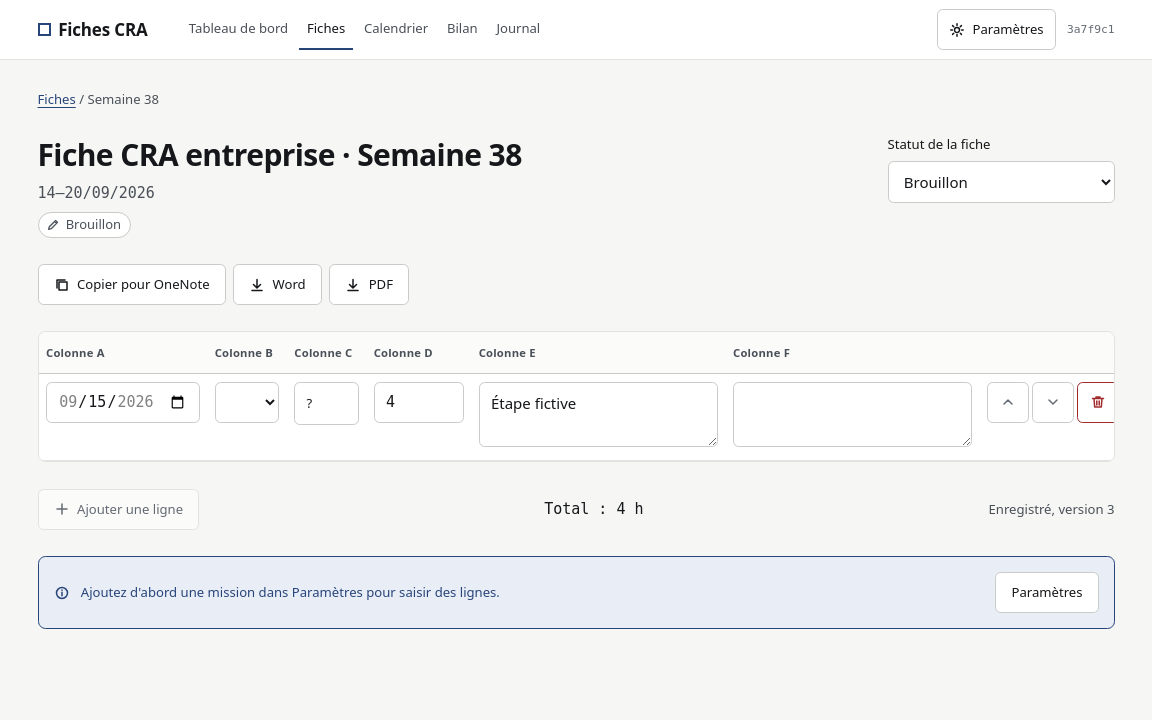
Test: Éditeur de fiche › la saisie déclenche un seul PUT après le délai d'inactivité
Replace the text in the text box named "Étapes de la ligne 1" with "Étape fictive modifiée" at (598, 415), box left=479, top=382, right=718, bottom=448
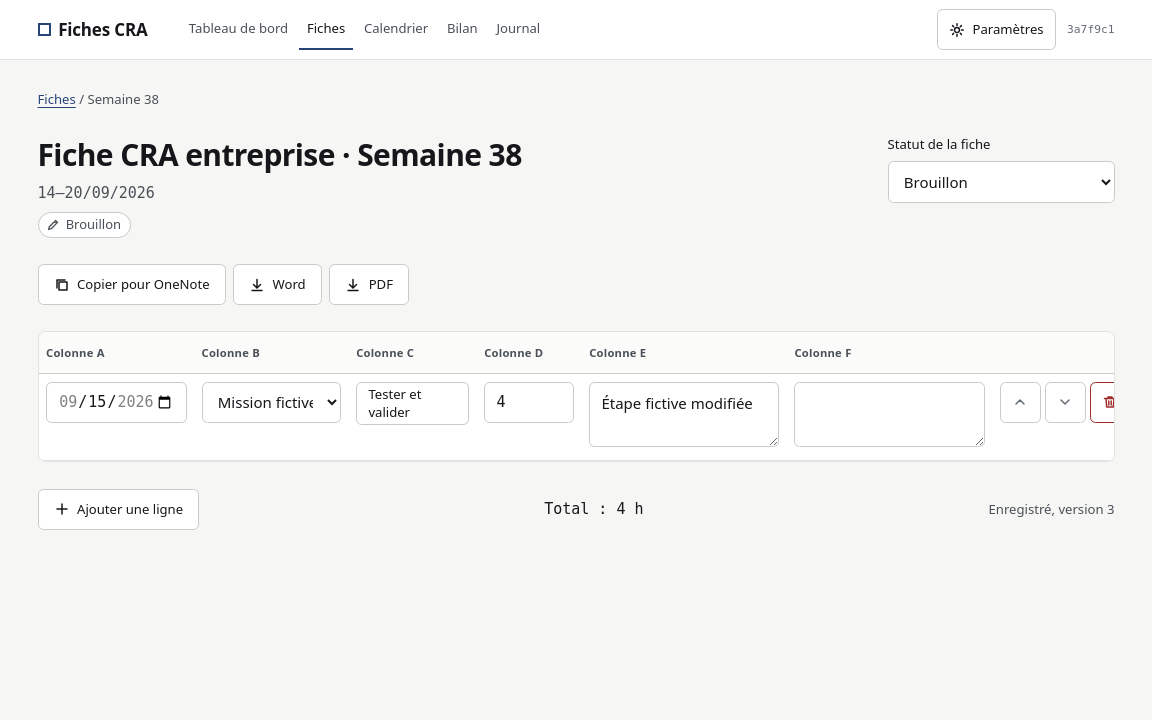
Replace the text in the text box named "Étapes de la ligne 1" with "Étape fictive modifiée deux fois" at (684, 415), box left=589, top=382, right=780, bottom=448
Wait 810 ms
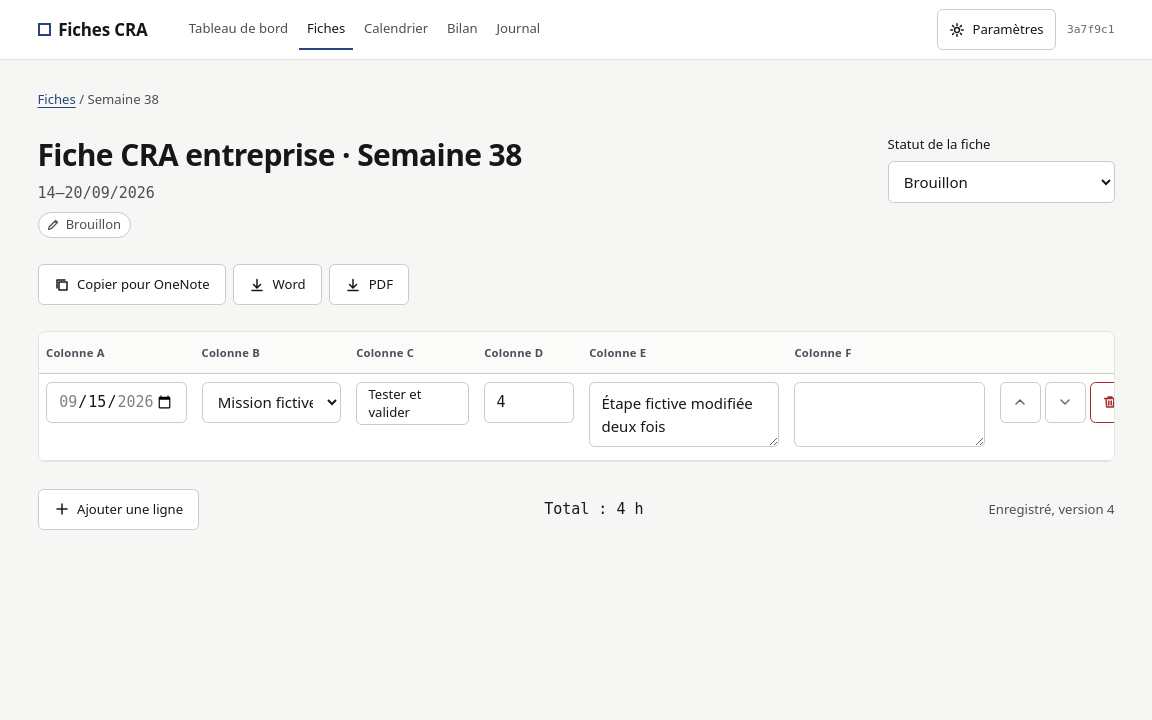
Expected: the text "Enregistré, version 4" is shown, left=988, top=500, right=1114, bottom=519
